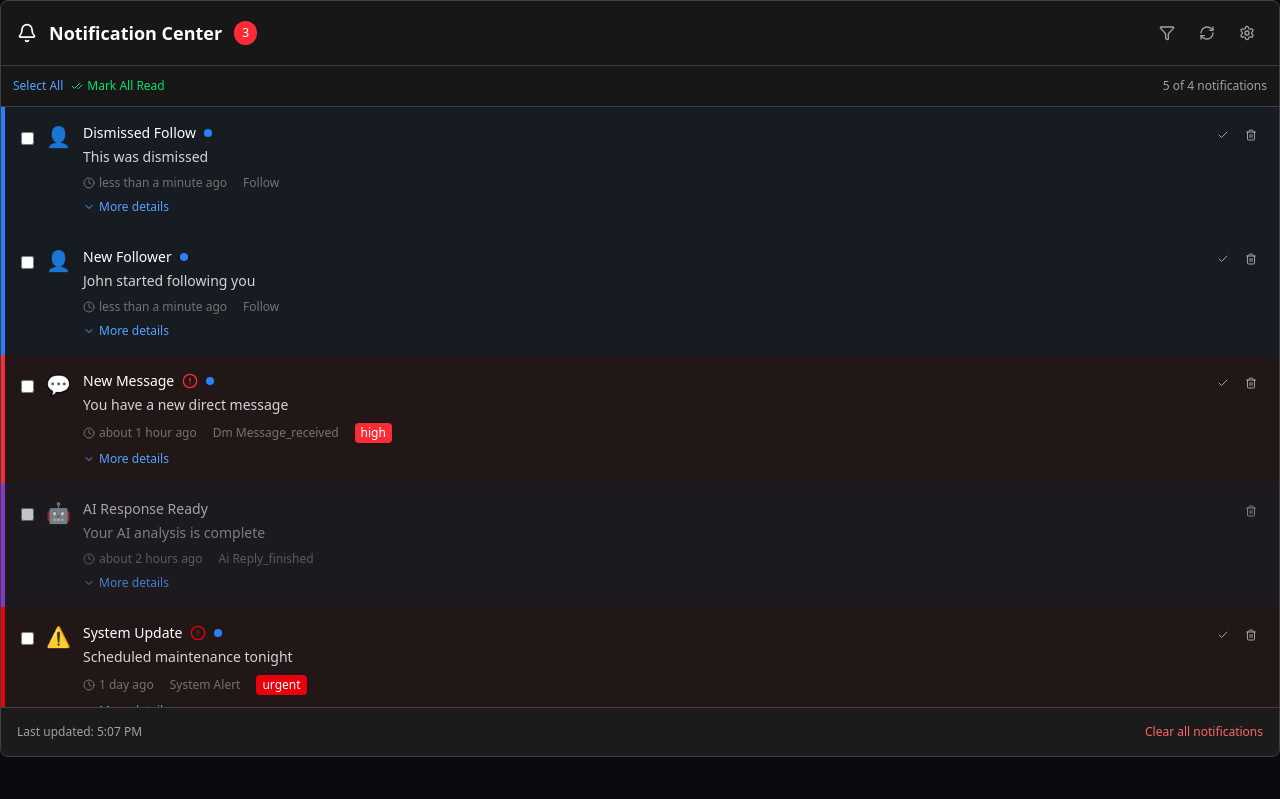
Test: NotificationCenter › Dismissed Filter › should filter dismissed notifications
The width and height of the screenshot is (1280, 799).
Note: Open filters
Click the button titled "Toggle filters" at (1167, 33), box [1151,17,1183,49]
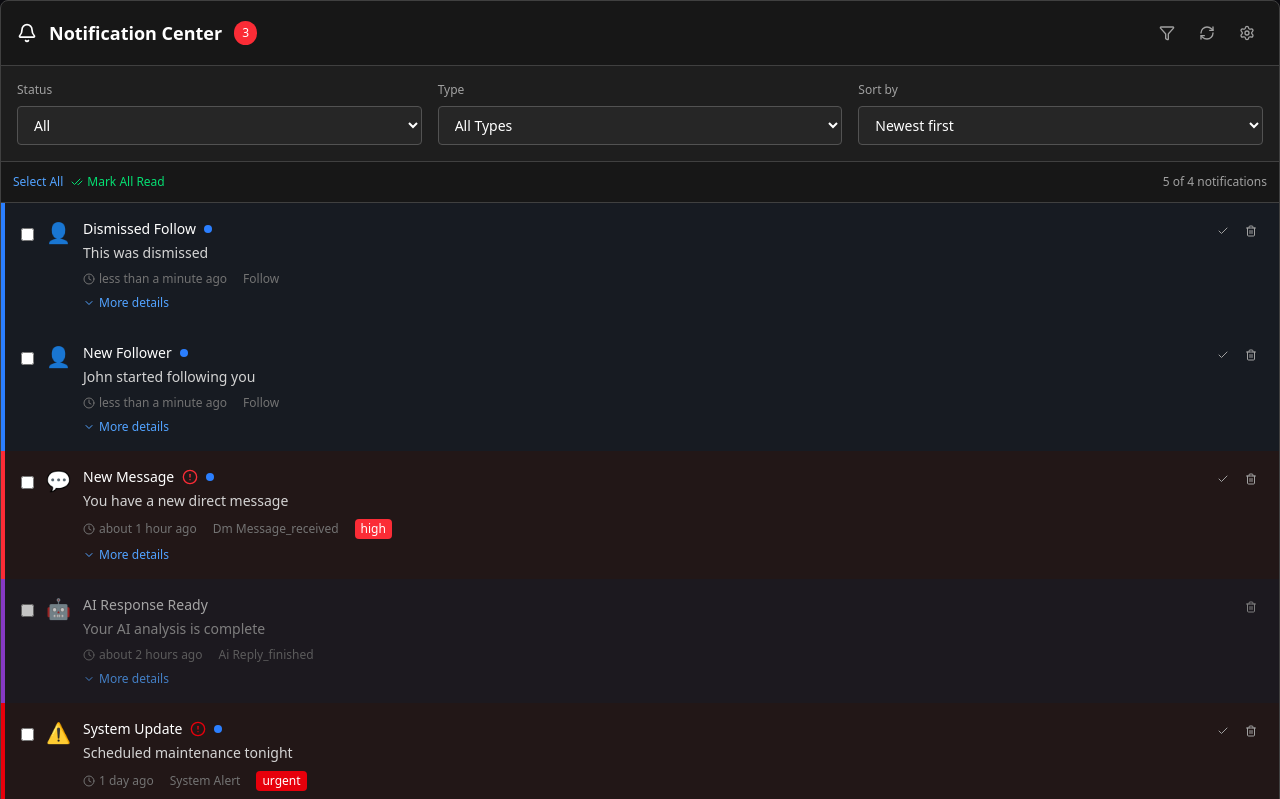
Note: Change status filter to dismissed
Select "Dismissed" in the dropdown showing "All" below "Status" at (219, 126), box [17,106,422,145]
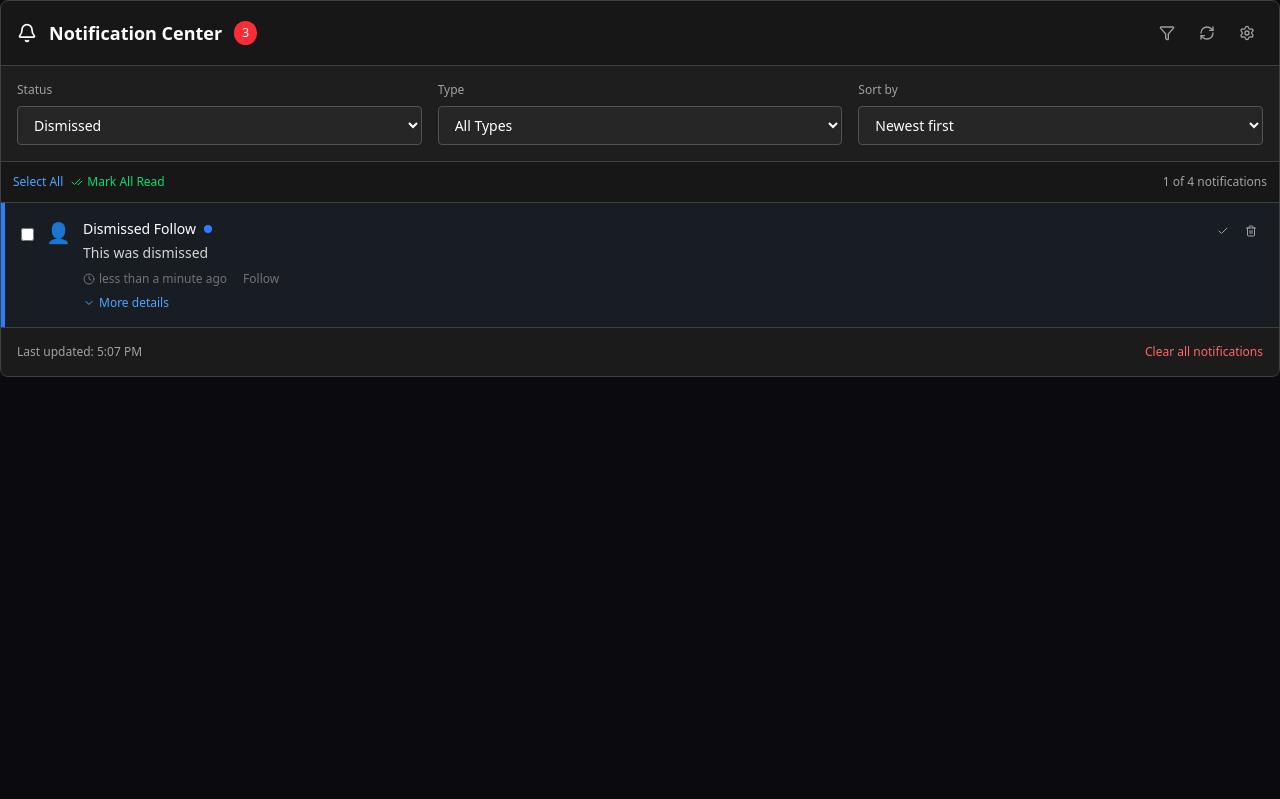
Check: the heading "Dismissed Follow" is shown, box [83,219,196,239]
Check: the heading "New Follower" is gone
